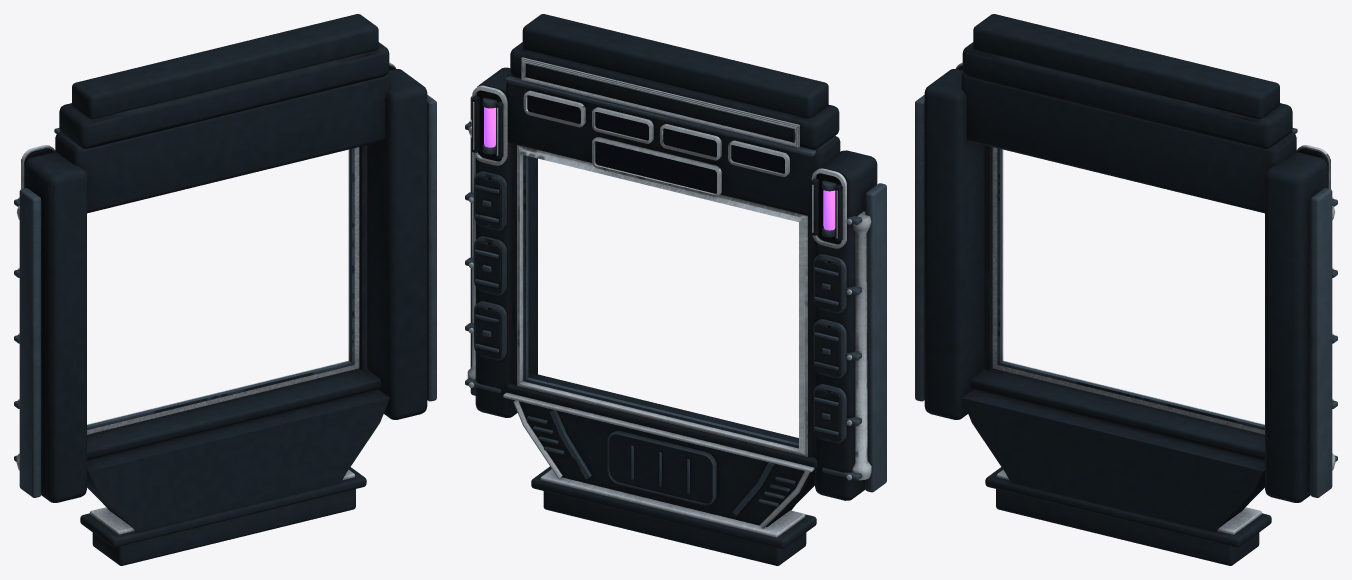
3 renders of one model, left to right at view 1: azimuth 30°, elevation 25°; view 2: azimuth 150°, elevation 25°; view 3: azimuth 330°, elevation 25°, orthographic.
Visible parts, largest first — view 1: Black_pressure_enamel, Titanium_pressure_joints, Platinum_ribs; view 2: Black_pressure_enamel, Platinum_ribs, Titanium_pressure_joints, Uniform_display_face, Held_capsule_violet_glow; view 3: Black_pressure_enamel, Titanium_pressure_joints, Platinum_ribs.
Boxes of the visible parts, bbox=[...] form: Black_pressure_enamel: bbox=[21, 14, 427, 565]; Titanium_pressure_joints: bbox=[14, 95, 436, 497]; Platinum_ribs: bbox=[16, 62, 395, 534]; Black_pressure_enamel: bbox=[472, 14, 877, 565]; Platinum_ribs: bbox=[467, 57, 871, 537]; Titanium_pressure_joints: bbox=[465, 76, 886, 515]; Uniform_display_face: bbox=[476, 85, 847, 437]; Held_capsule_violet_glow: bbox=[484, 107, 835, 230]; Black_pressure_enamel: bbox=[924, 14, 1330, 565]; Titanium_pressure_joints: bbox=[915, 95, 1337, 497]; Platinum_ribs: bbox=[956, 62, 1335, 534].
Size of the model in its own units: 10.08 by 11.3 by 1.59.
5 materials, 4 textured.
